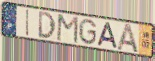A: (116, 23, 140, 54), (97, 21, 119, 50)
D: (37, 10, 57, 40)
G: (77, 18, 98, 46)
I: (25, 8, 30, 37)
M: (55, 13, 79, 45)
